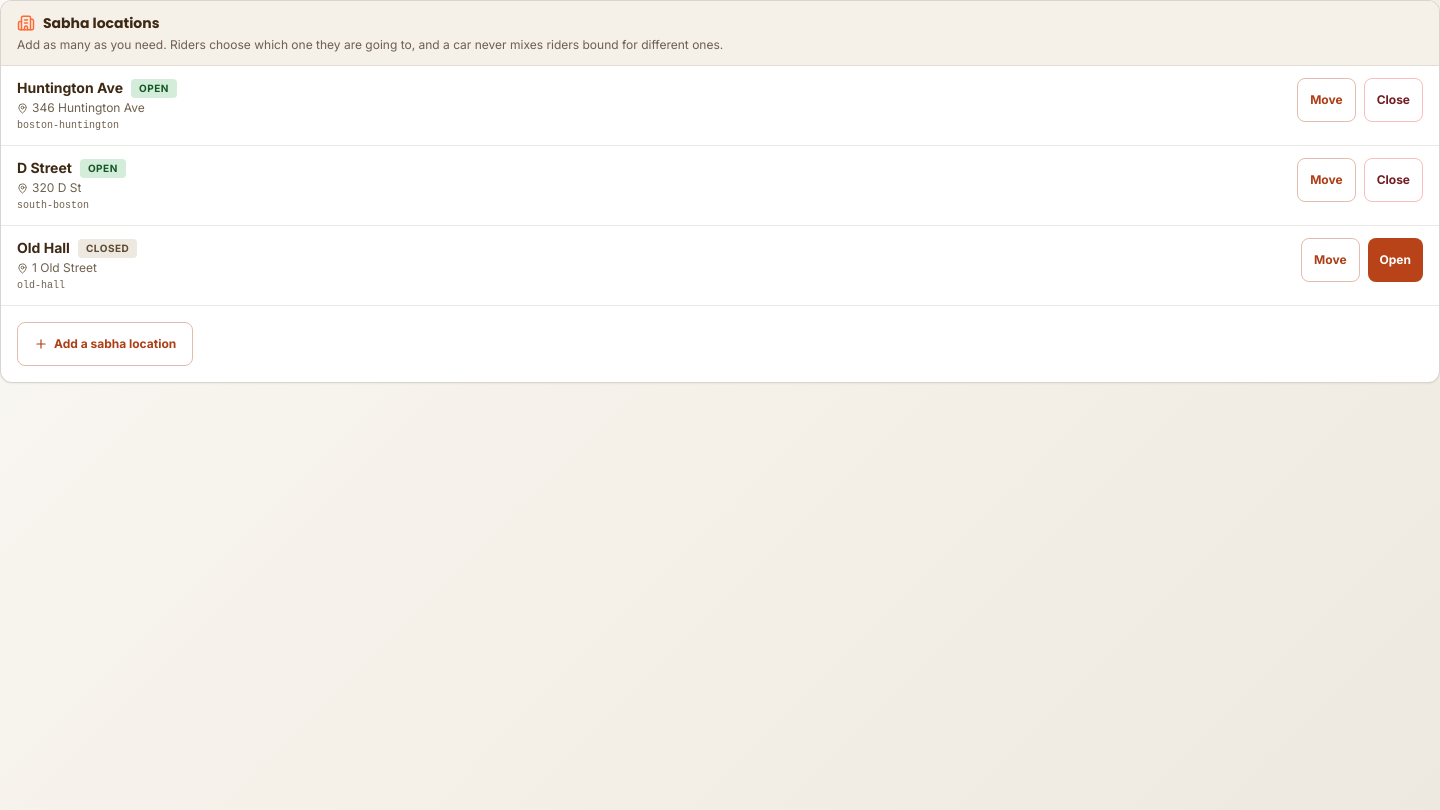
Test case: HallManagement — opening and closing › surfaces the SERVER's refusal
Click the button "Close" in the row of "320 D St". click: (1393, 180)
box: [1364,158,1423,202]
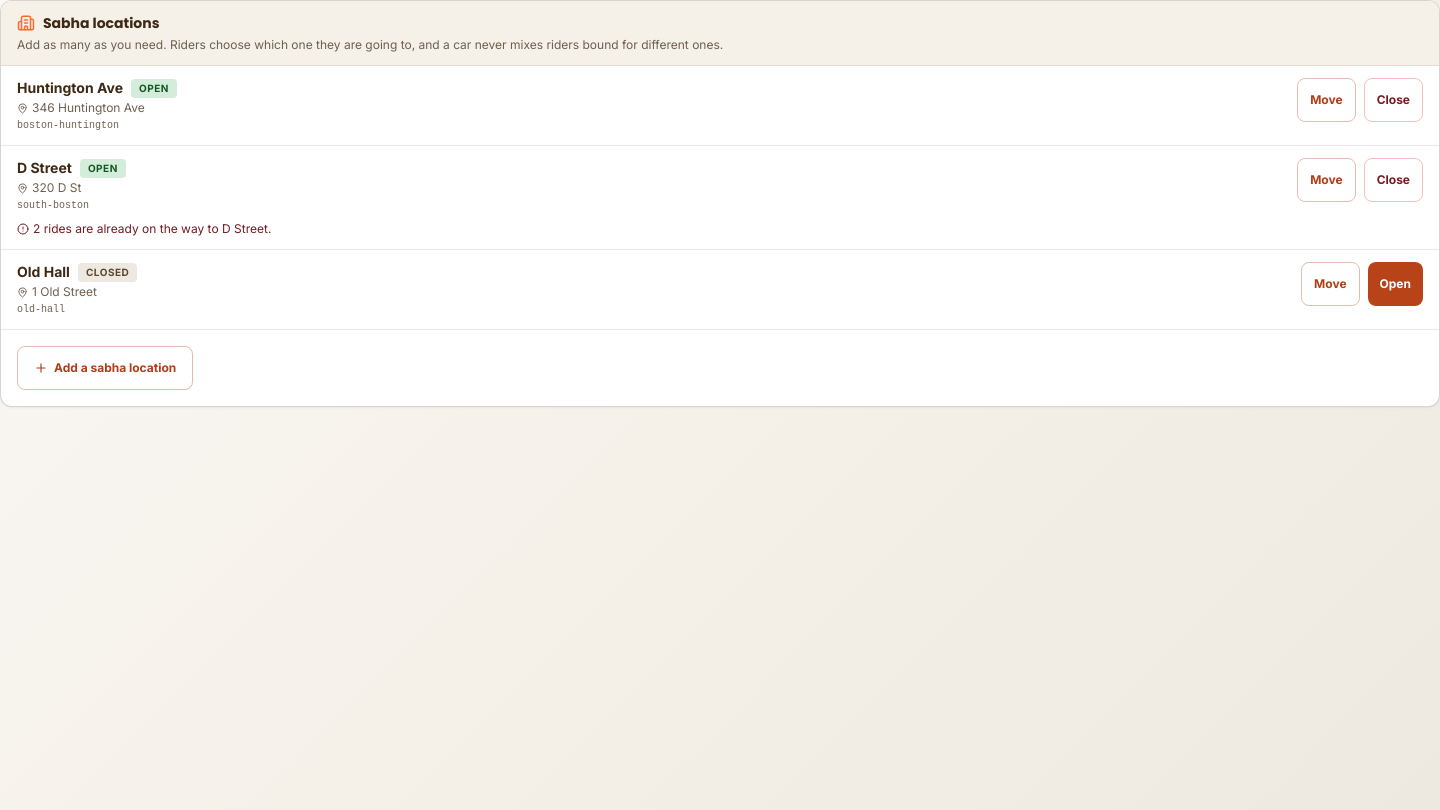
Expected: the text "2 rides are already on the way to D Street." is shown, [17,221,271,236]
